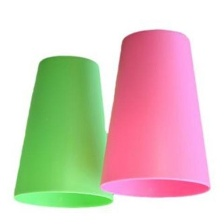glass: (96, 21, 215, 203), (9, 50, 118, 212)
